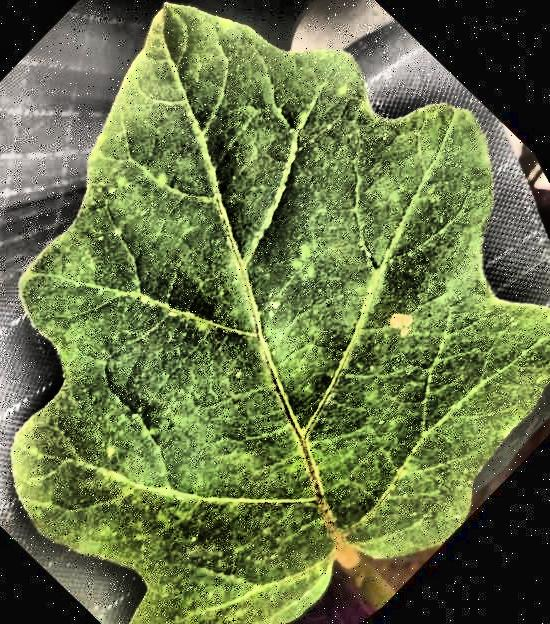HEALTHY: (0, 1, 550, 624)
